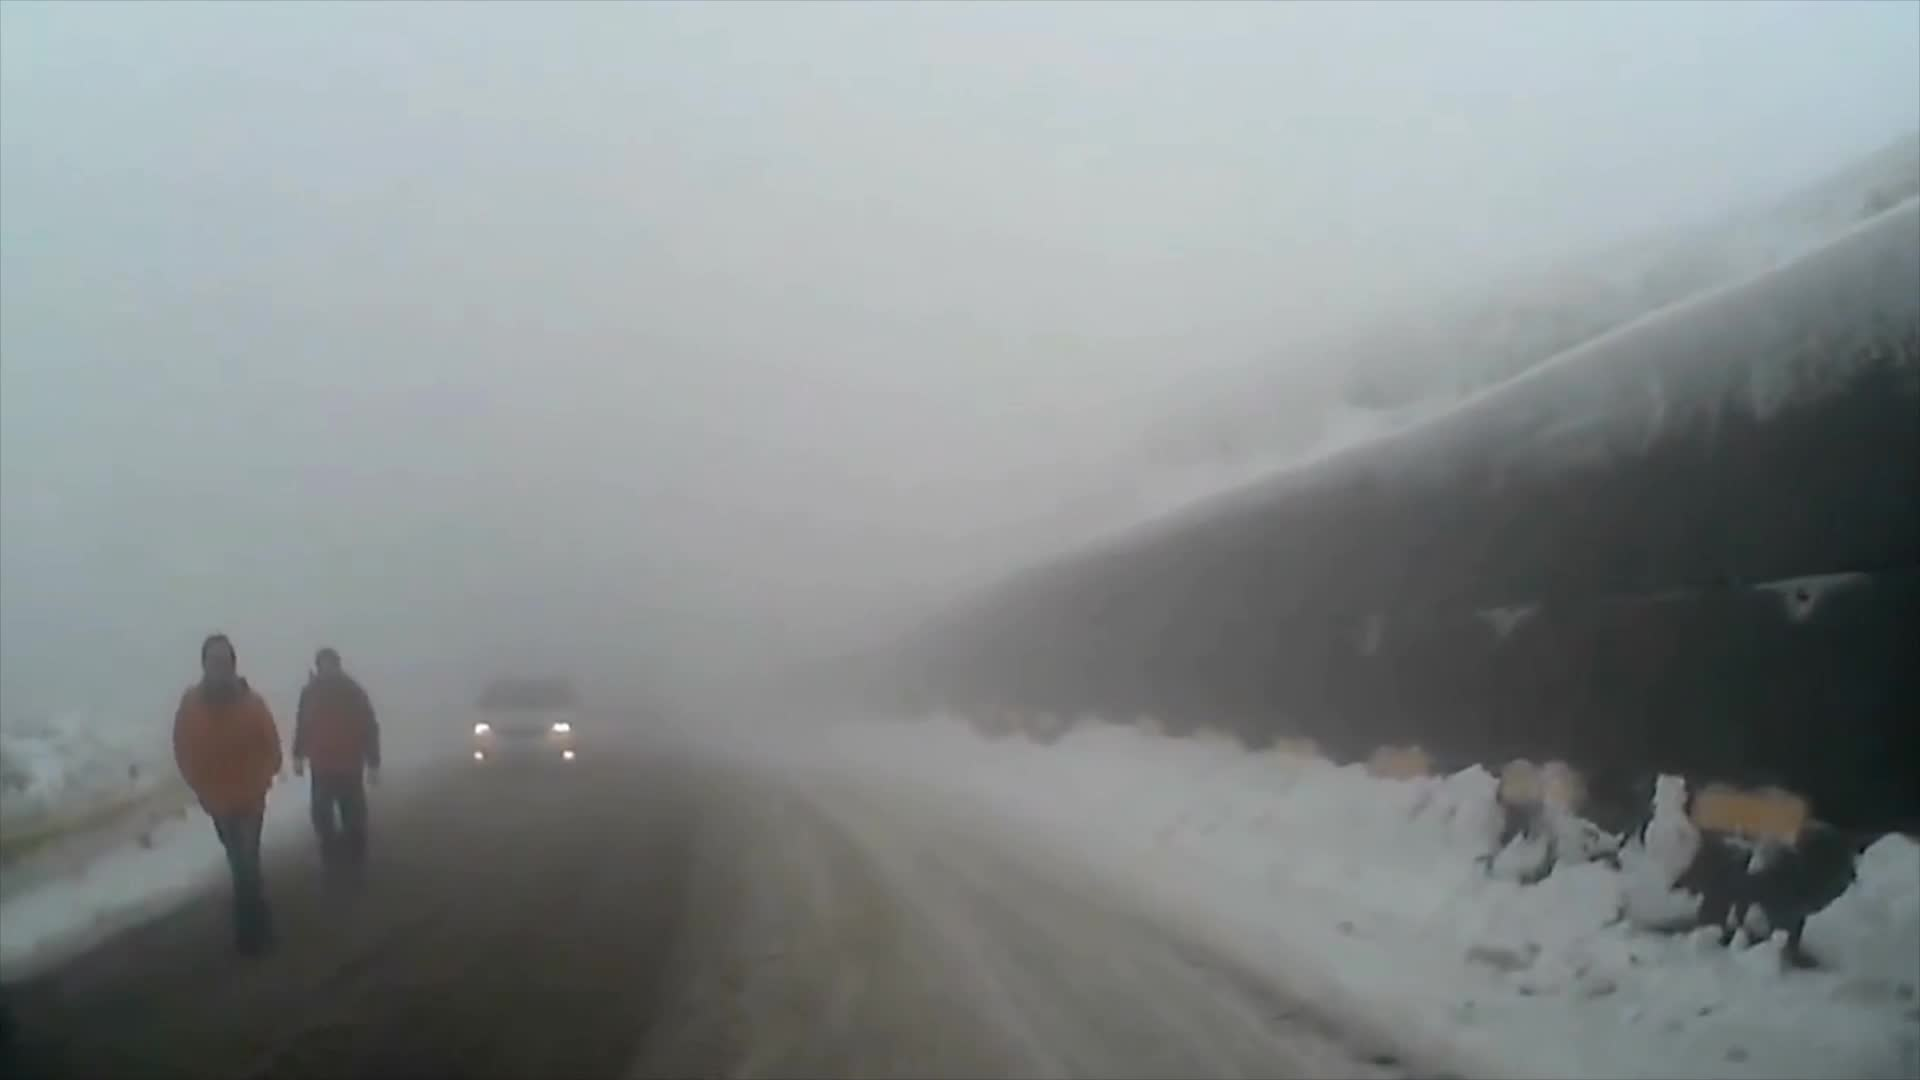pedestrian: (175, 629, 286, 956), (293, 647, 379, 884)
vehicle: (468, 670, 583, 772)
